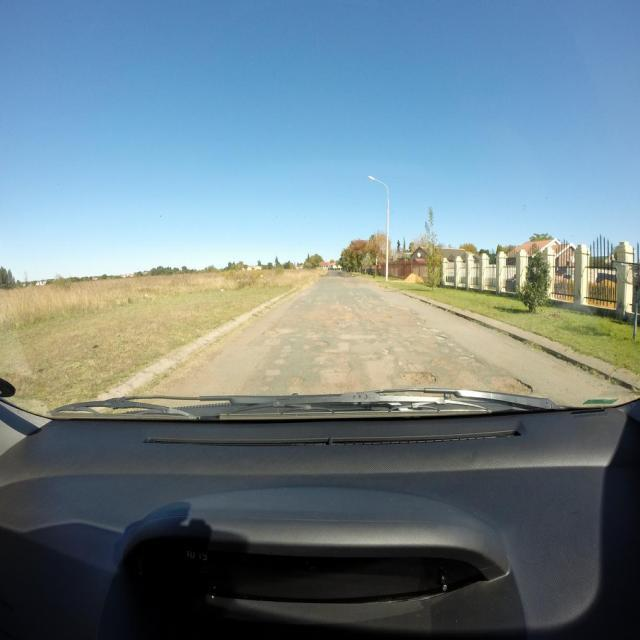pothole: (491, 374, 533, 394), (402, 372, 438, 384), (314, 352, 338, 359), (263, 329, 279, 337), (288, 377, 303, 385), (336, 314, 356, 319), (316, 339, 329, 346), (327, 321, 340, 328), (377, 314, 392, 320)
